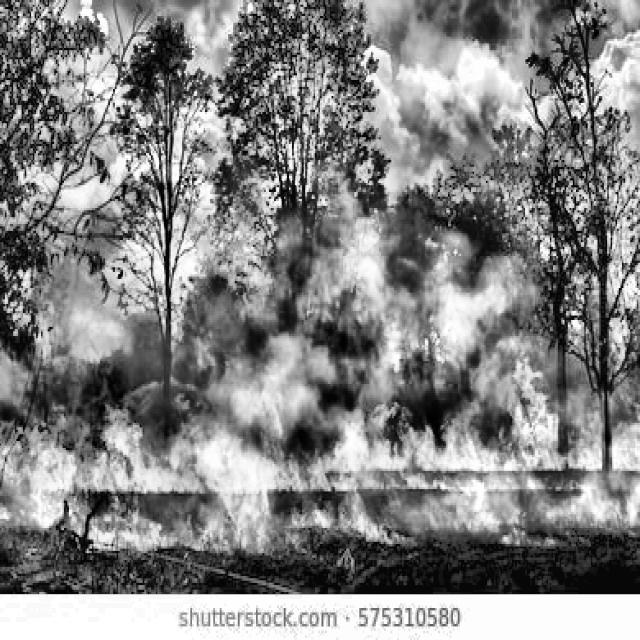fire: (0, 368, 631, 566)
